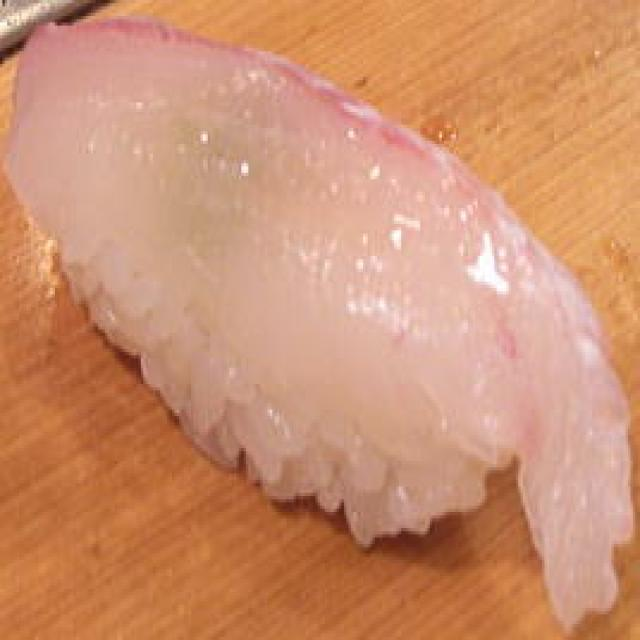寿司卷物: (0, 3, 640, 624)
